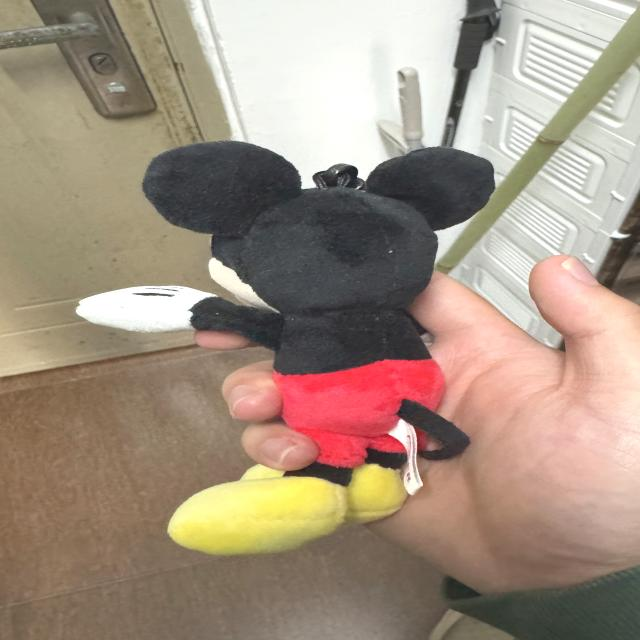mickey: (78, 142, 493, 554)
